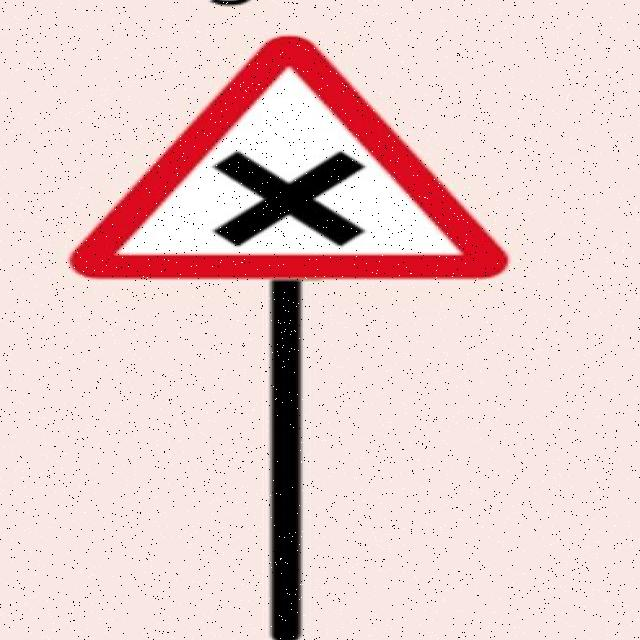Crossroads: (80, 35, 506, 270)
